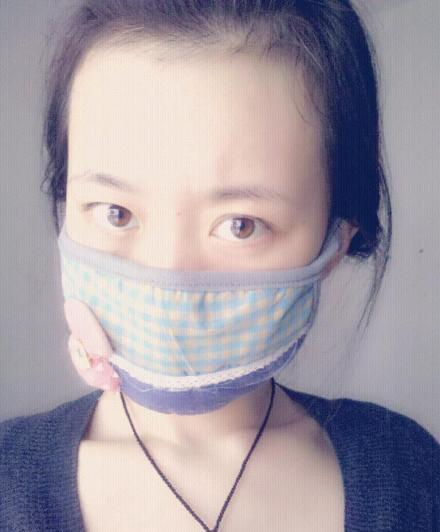OK: (68, 158, 320, 407)
